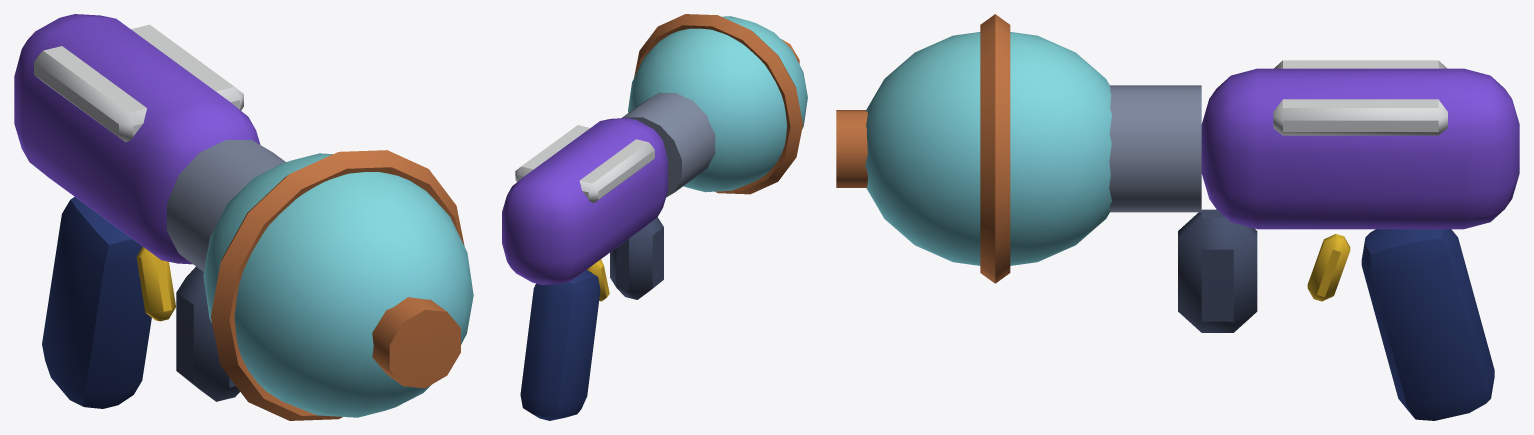
The model's file is w_a_plasma.glb.
The picture shows the model from 3 angles, left to right: view 1: azimuth 30°, elevation 25°; view 2: azimuth 150°, elevation 25°; view 3: azimuth 270°, elevation 25°; orthographic projection. The views are drawn at different scales.
Parts seen in each view (by area): view 1: body; view 2: body; view 3: body.
Part boxes in pixels (x1,y1,x2,y2): body: (14,14,473,420); body: (502,14,807,420); body: (836,14,1519,420).
Size of the model in its own units: 0.34 by 0.5414 by 0.86.
